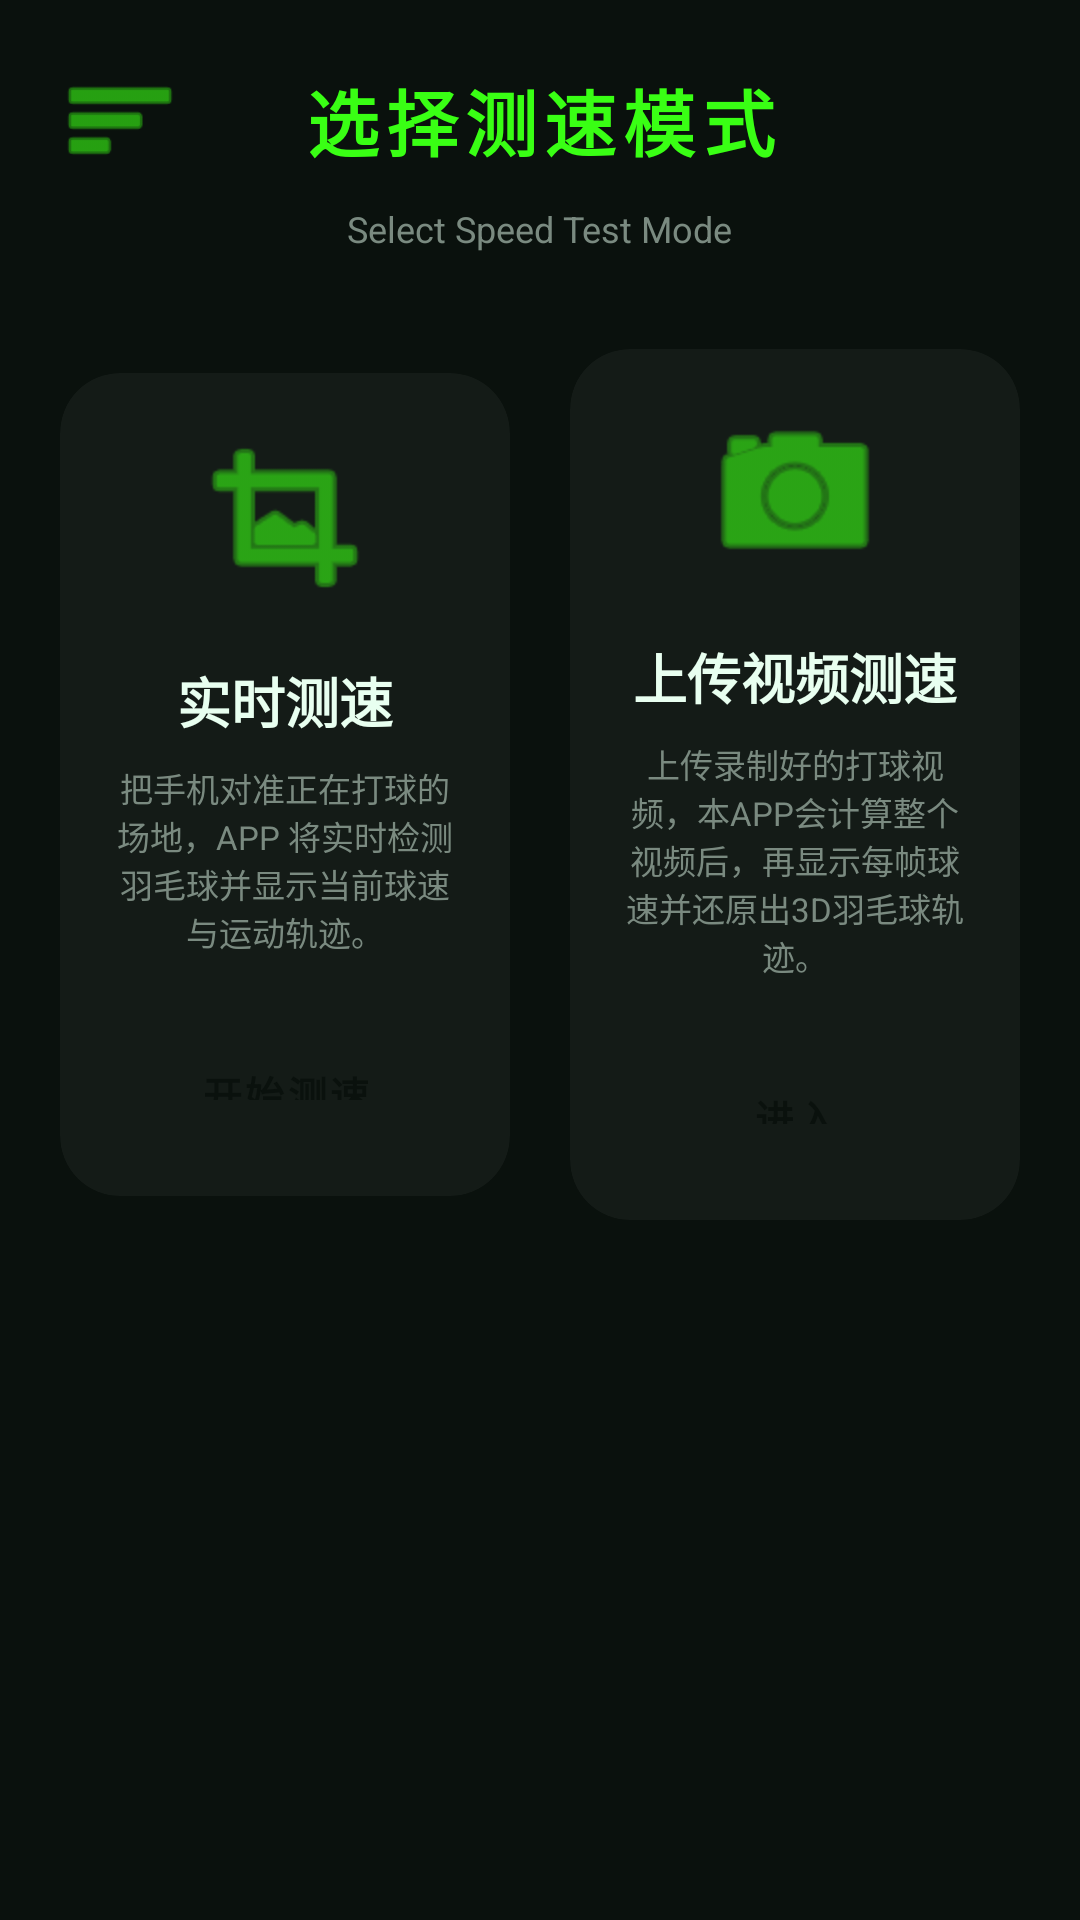

Named icons in this screenshot (1080w x 1920h) and their bounding boxes, [x1, y1, x2, y2]:
camera: [721, 431, 869, 549]
crop: [212, 448, 358, 588]
menu: [68, 87, 172, 154]
